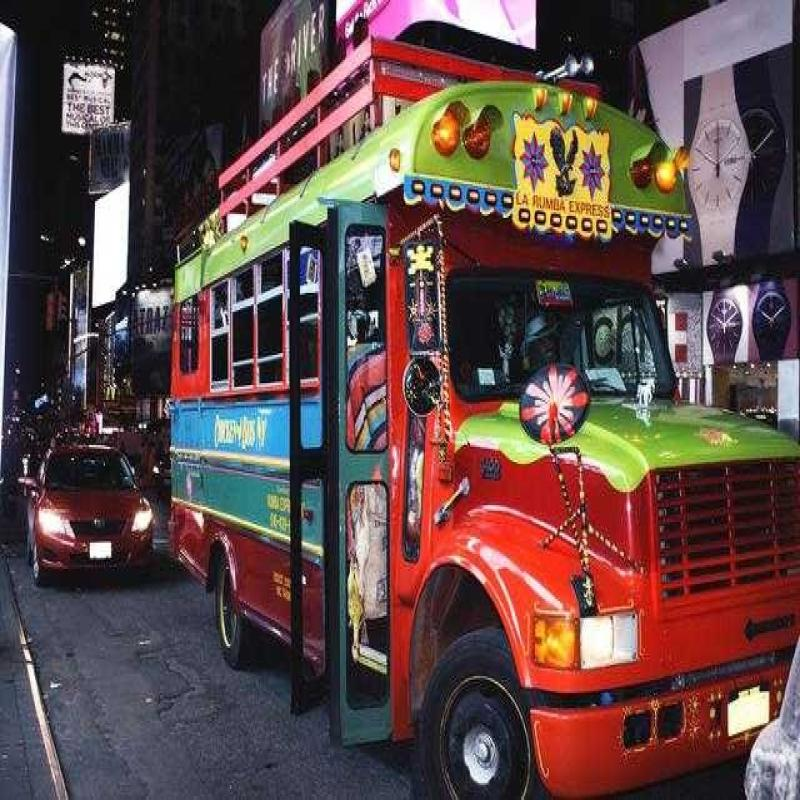bus: (157, 85, 800, 794)
